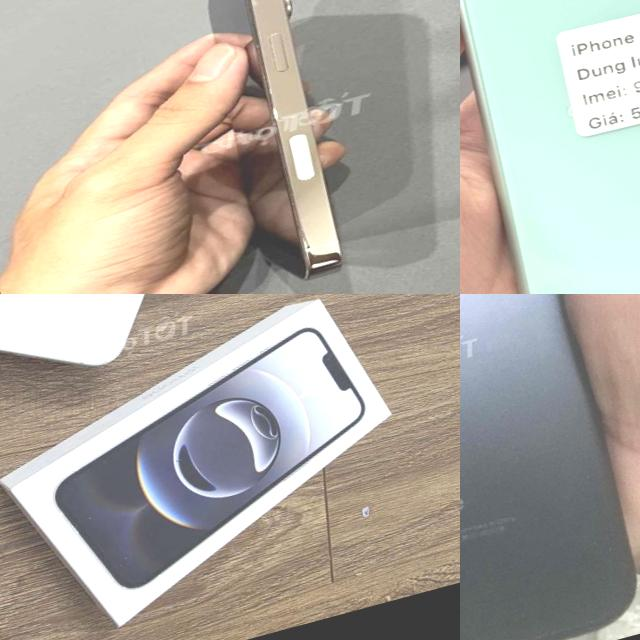gen_11: (460, 0, 640, 294)
gen_12_13: (134, 0, 454, 294)
gen_7_8: (460, 294, 640, 640)
